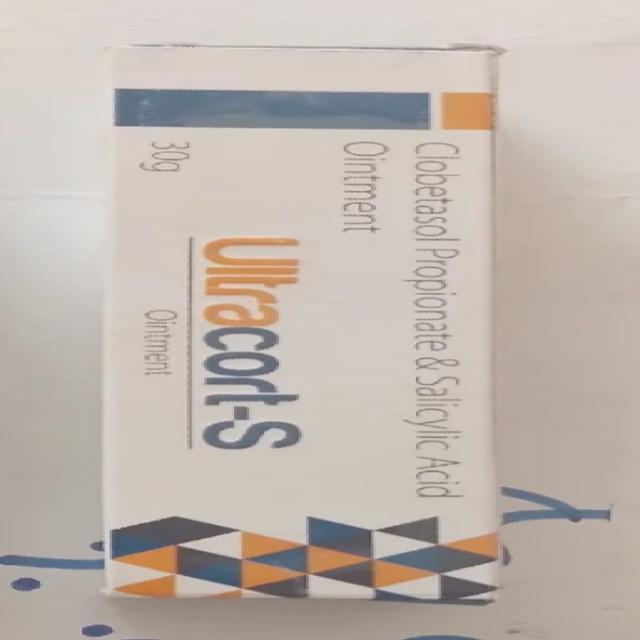drug-name: (198, 230, 316, 453)
